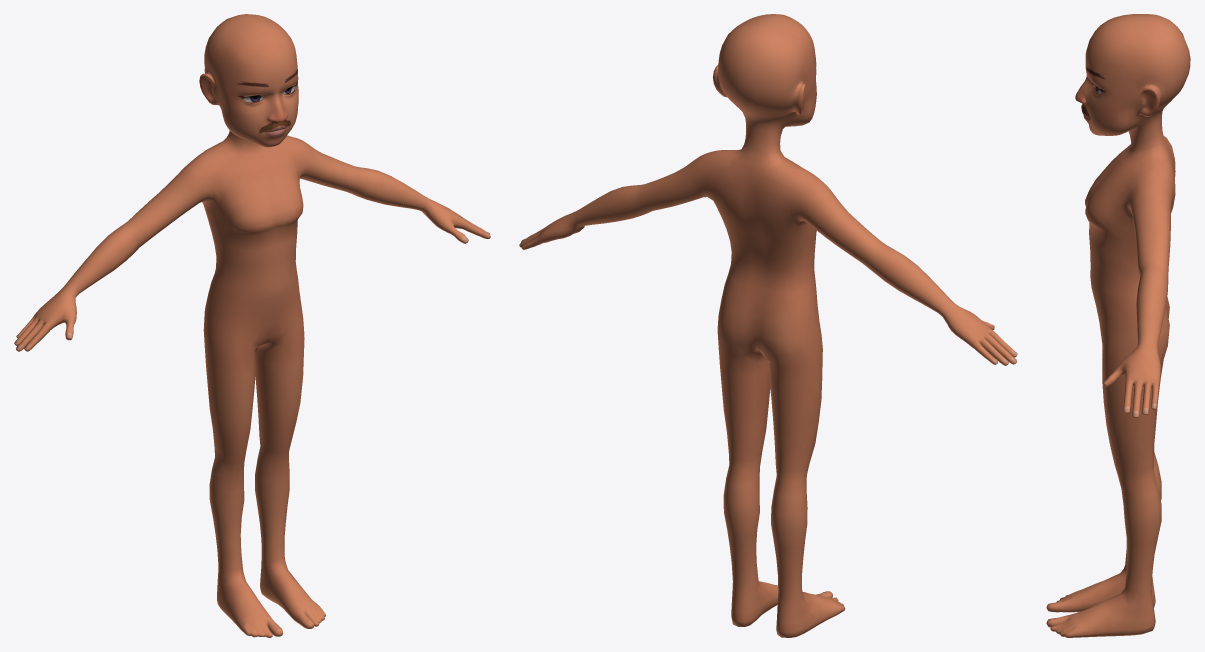
Rendered from frame_0084.glb.
The picture shows the model from 3 angles, left to right: view 1: azimuth 30°, elevation 25°; view 2: azimuth 150°, elevation 25°; view 3: azimuth 270°, elevation 25°; orthographic projection. The views are drawn at different scales.
Parts seen in each view (by area): view 1: frame_0084_head_geo; view 2: frame_0084_head_geo; view 3: frame_0084_head_geo.
Boxes of the visible parts, x1,y1,x2,y2 form: frame_0084_head_geo: (14, 14, 490, 637); frame_0084_head_geo: (519, 14, 1017, 637); frame_0084_head_geo: (1046, 14, 1190, 637).
Bounding box in the file's own units: 1.28 × 1.5 × 0.3253.
3 materials, 3 textured.
